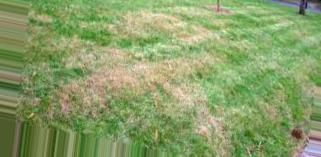patch: (133, 61, 202, 82), (95, 54, 131, 84), (136, 14, 177, 28), (175, 88, 198, 107)
